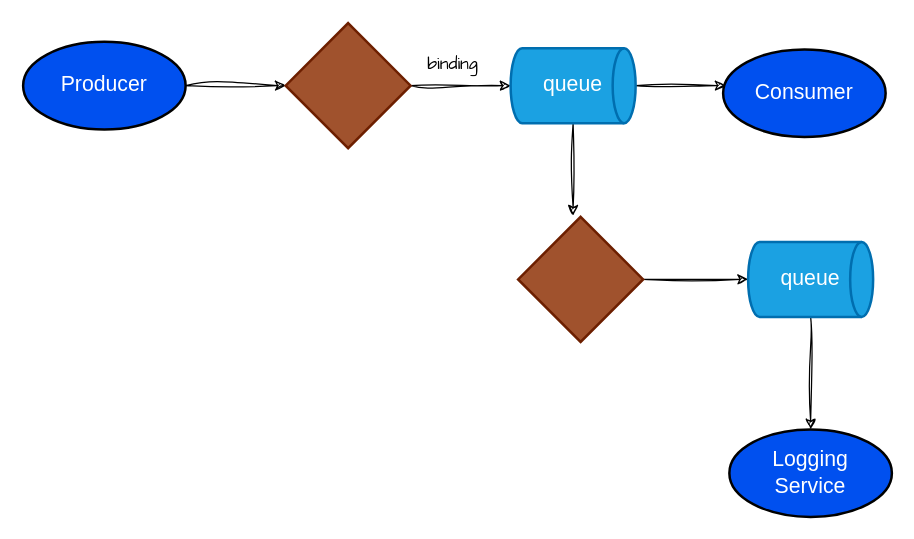
Some shapes in this 914 by 539 pixel diagram are drawn without their labels. Each missing label, with the box of its shape:
DL Exchange: (516, 215, 644, 342)
Main Exchange: (284, 21, 411, 149)
